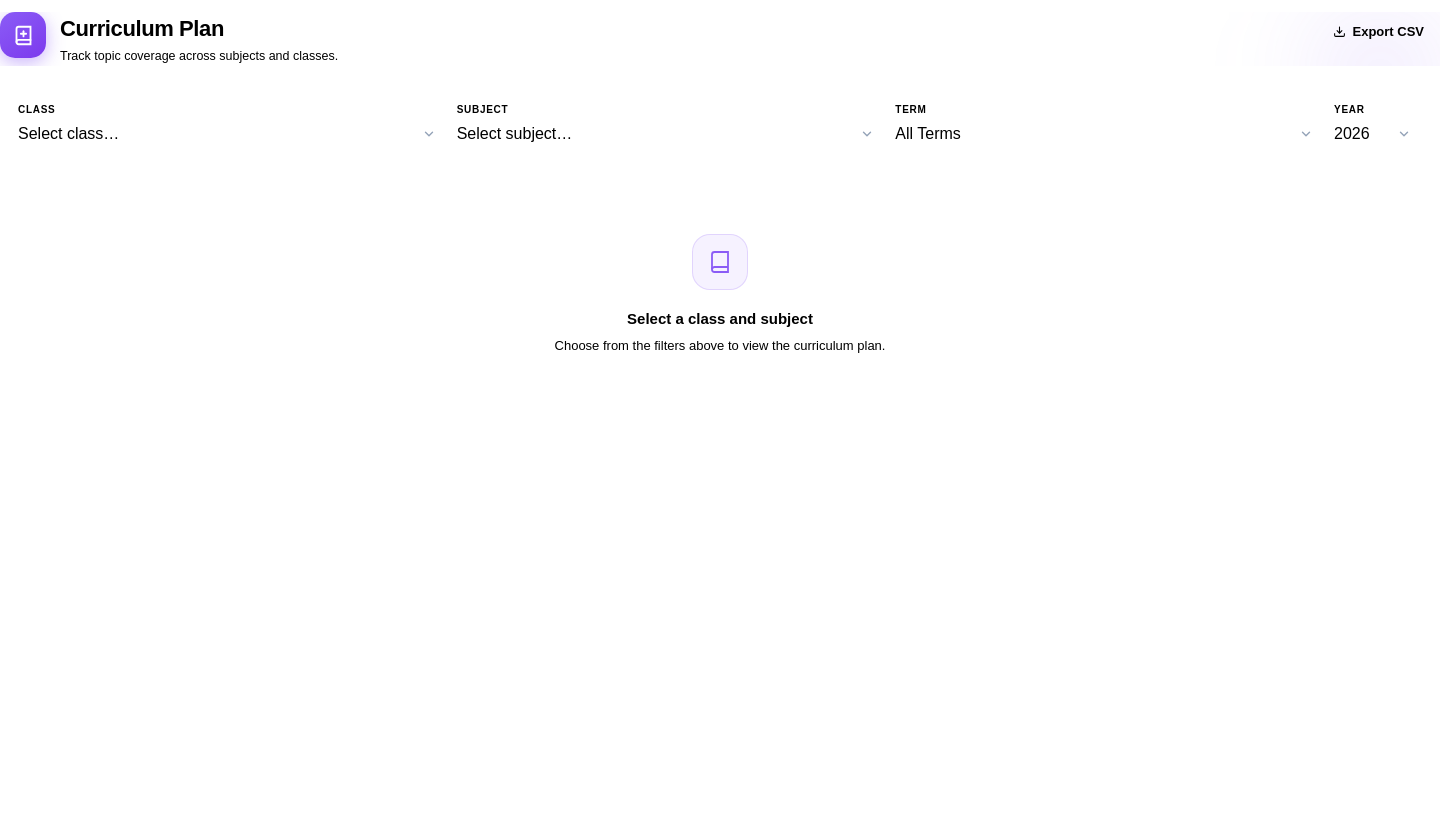
Test: DosCurriculumPage — Covered By column › shows "—" when coveredByName is null, without crashing
The image size is (1452, 822).
Step 1. Select "S.1" in the 1st dropdown → (232, 134), box [18, 122, 447, 146]
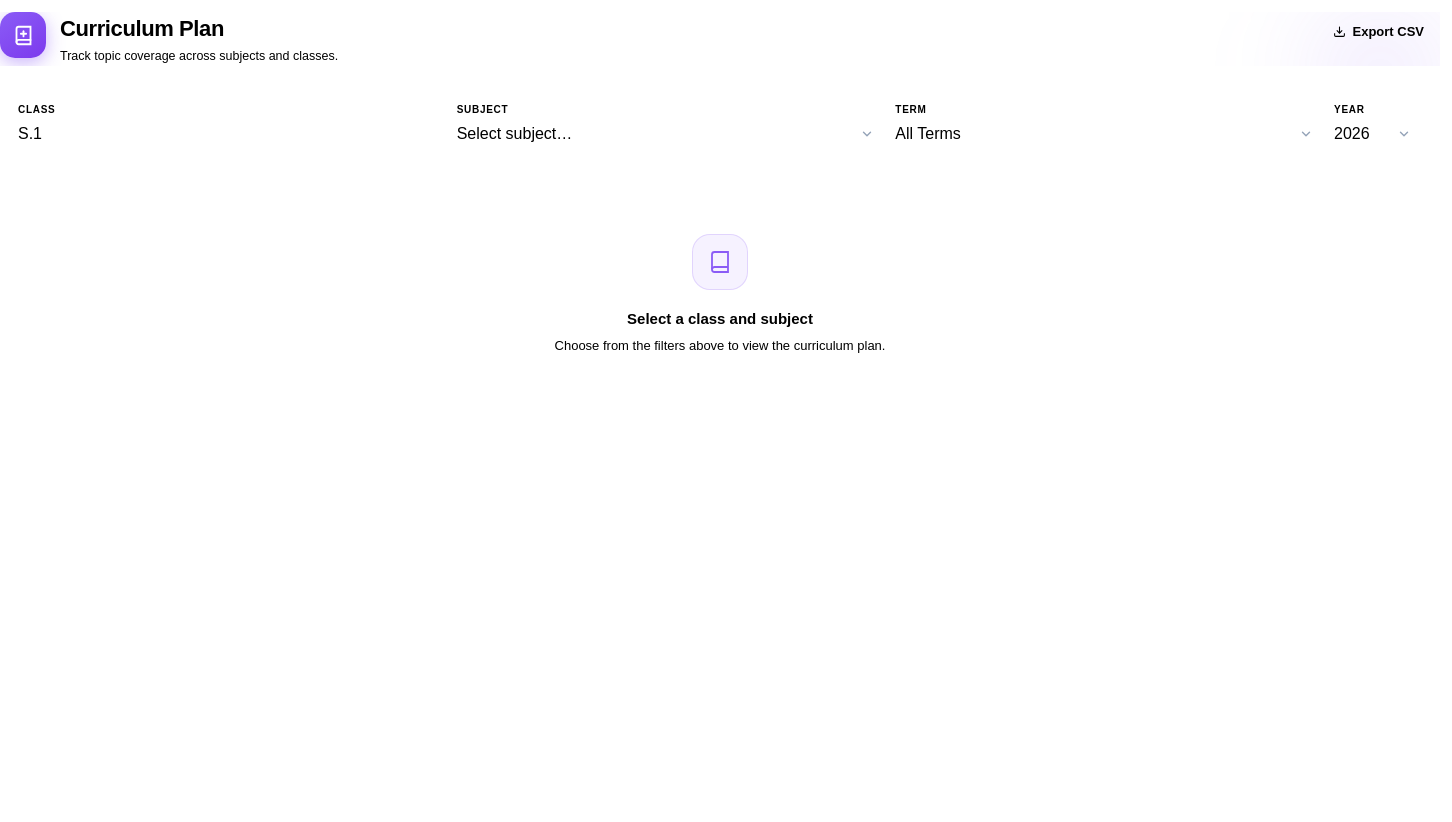
Step 2. Select "Math" in the 2nd dropdown → (671, 134), box [457, 122, 885, 146]
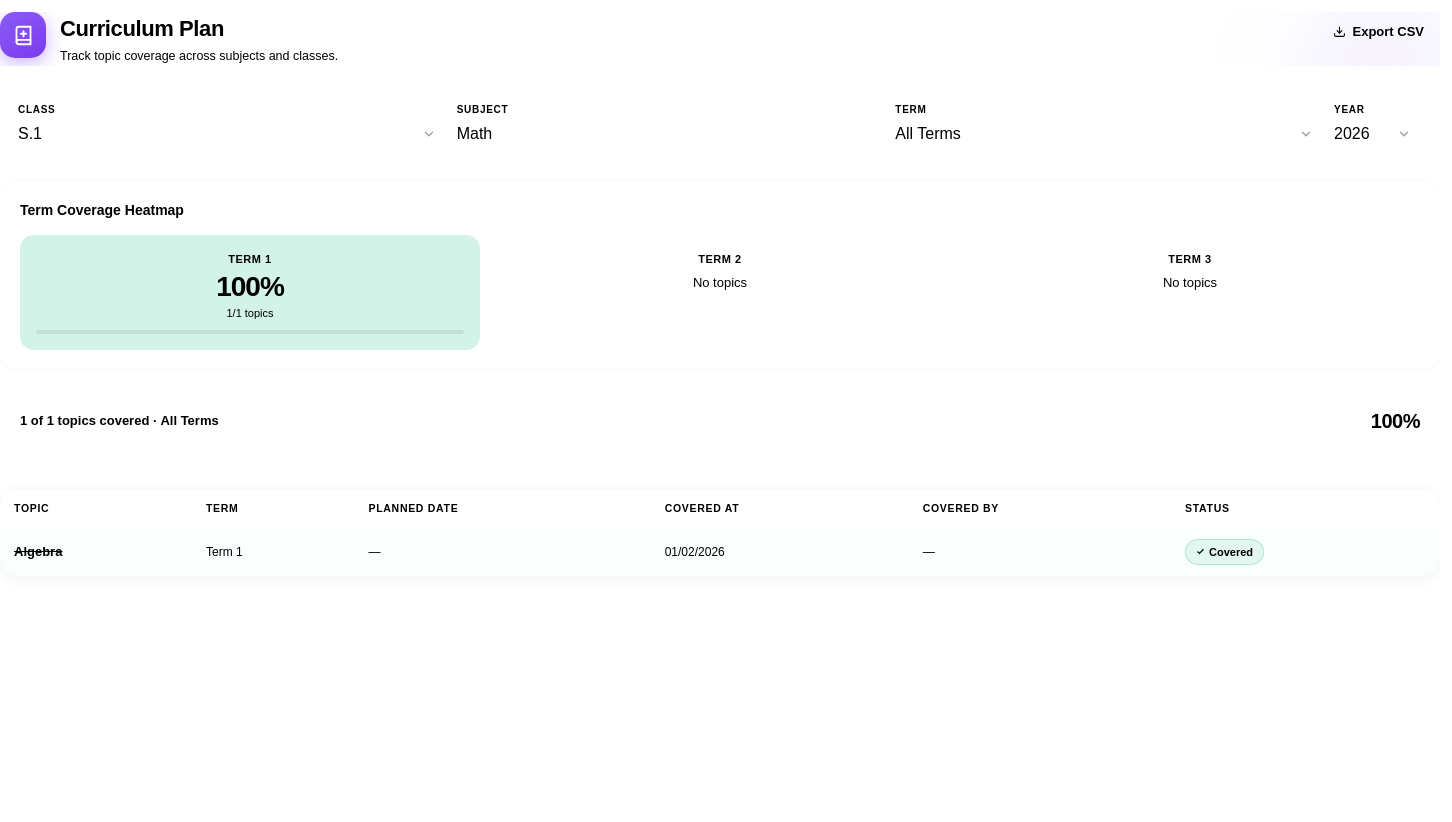
Expected: the text "Algebra" is shown, [0, 528, 192, 576]
Expected: the text "Algebra" shows "—", [368, 545, 380, 559]
